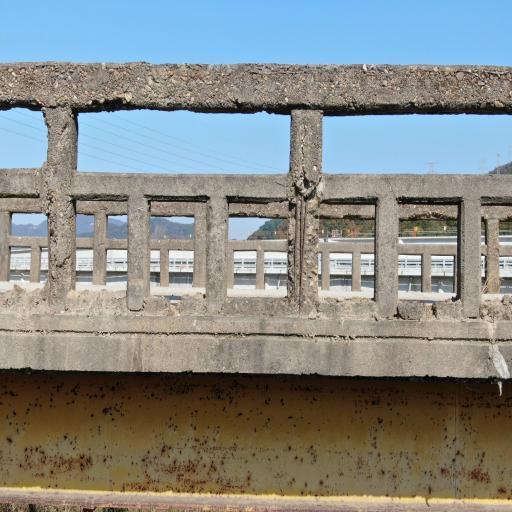exposed_rebar: (299, 197, 308, 313), (294, 197, 299, 299), (48, 212, 51, 306), (300, 198, 303, 260)
spalling: (288, 184, 320, 314)
